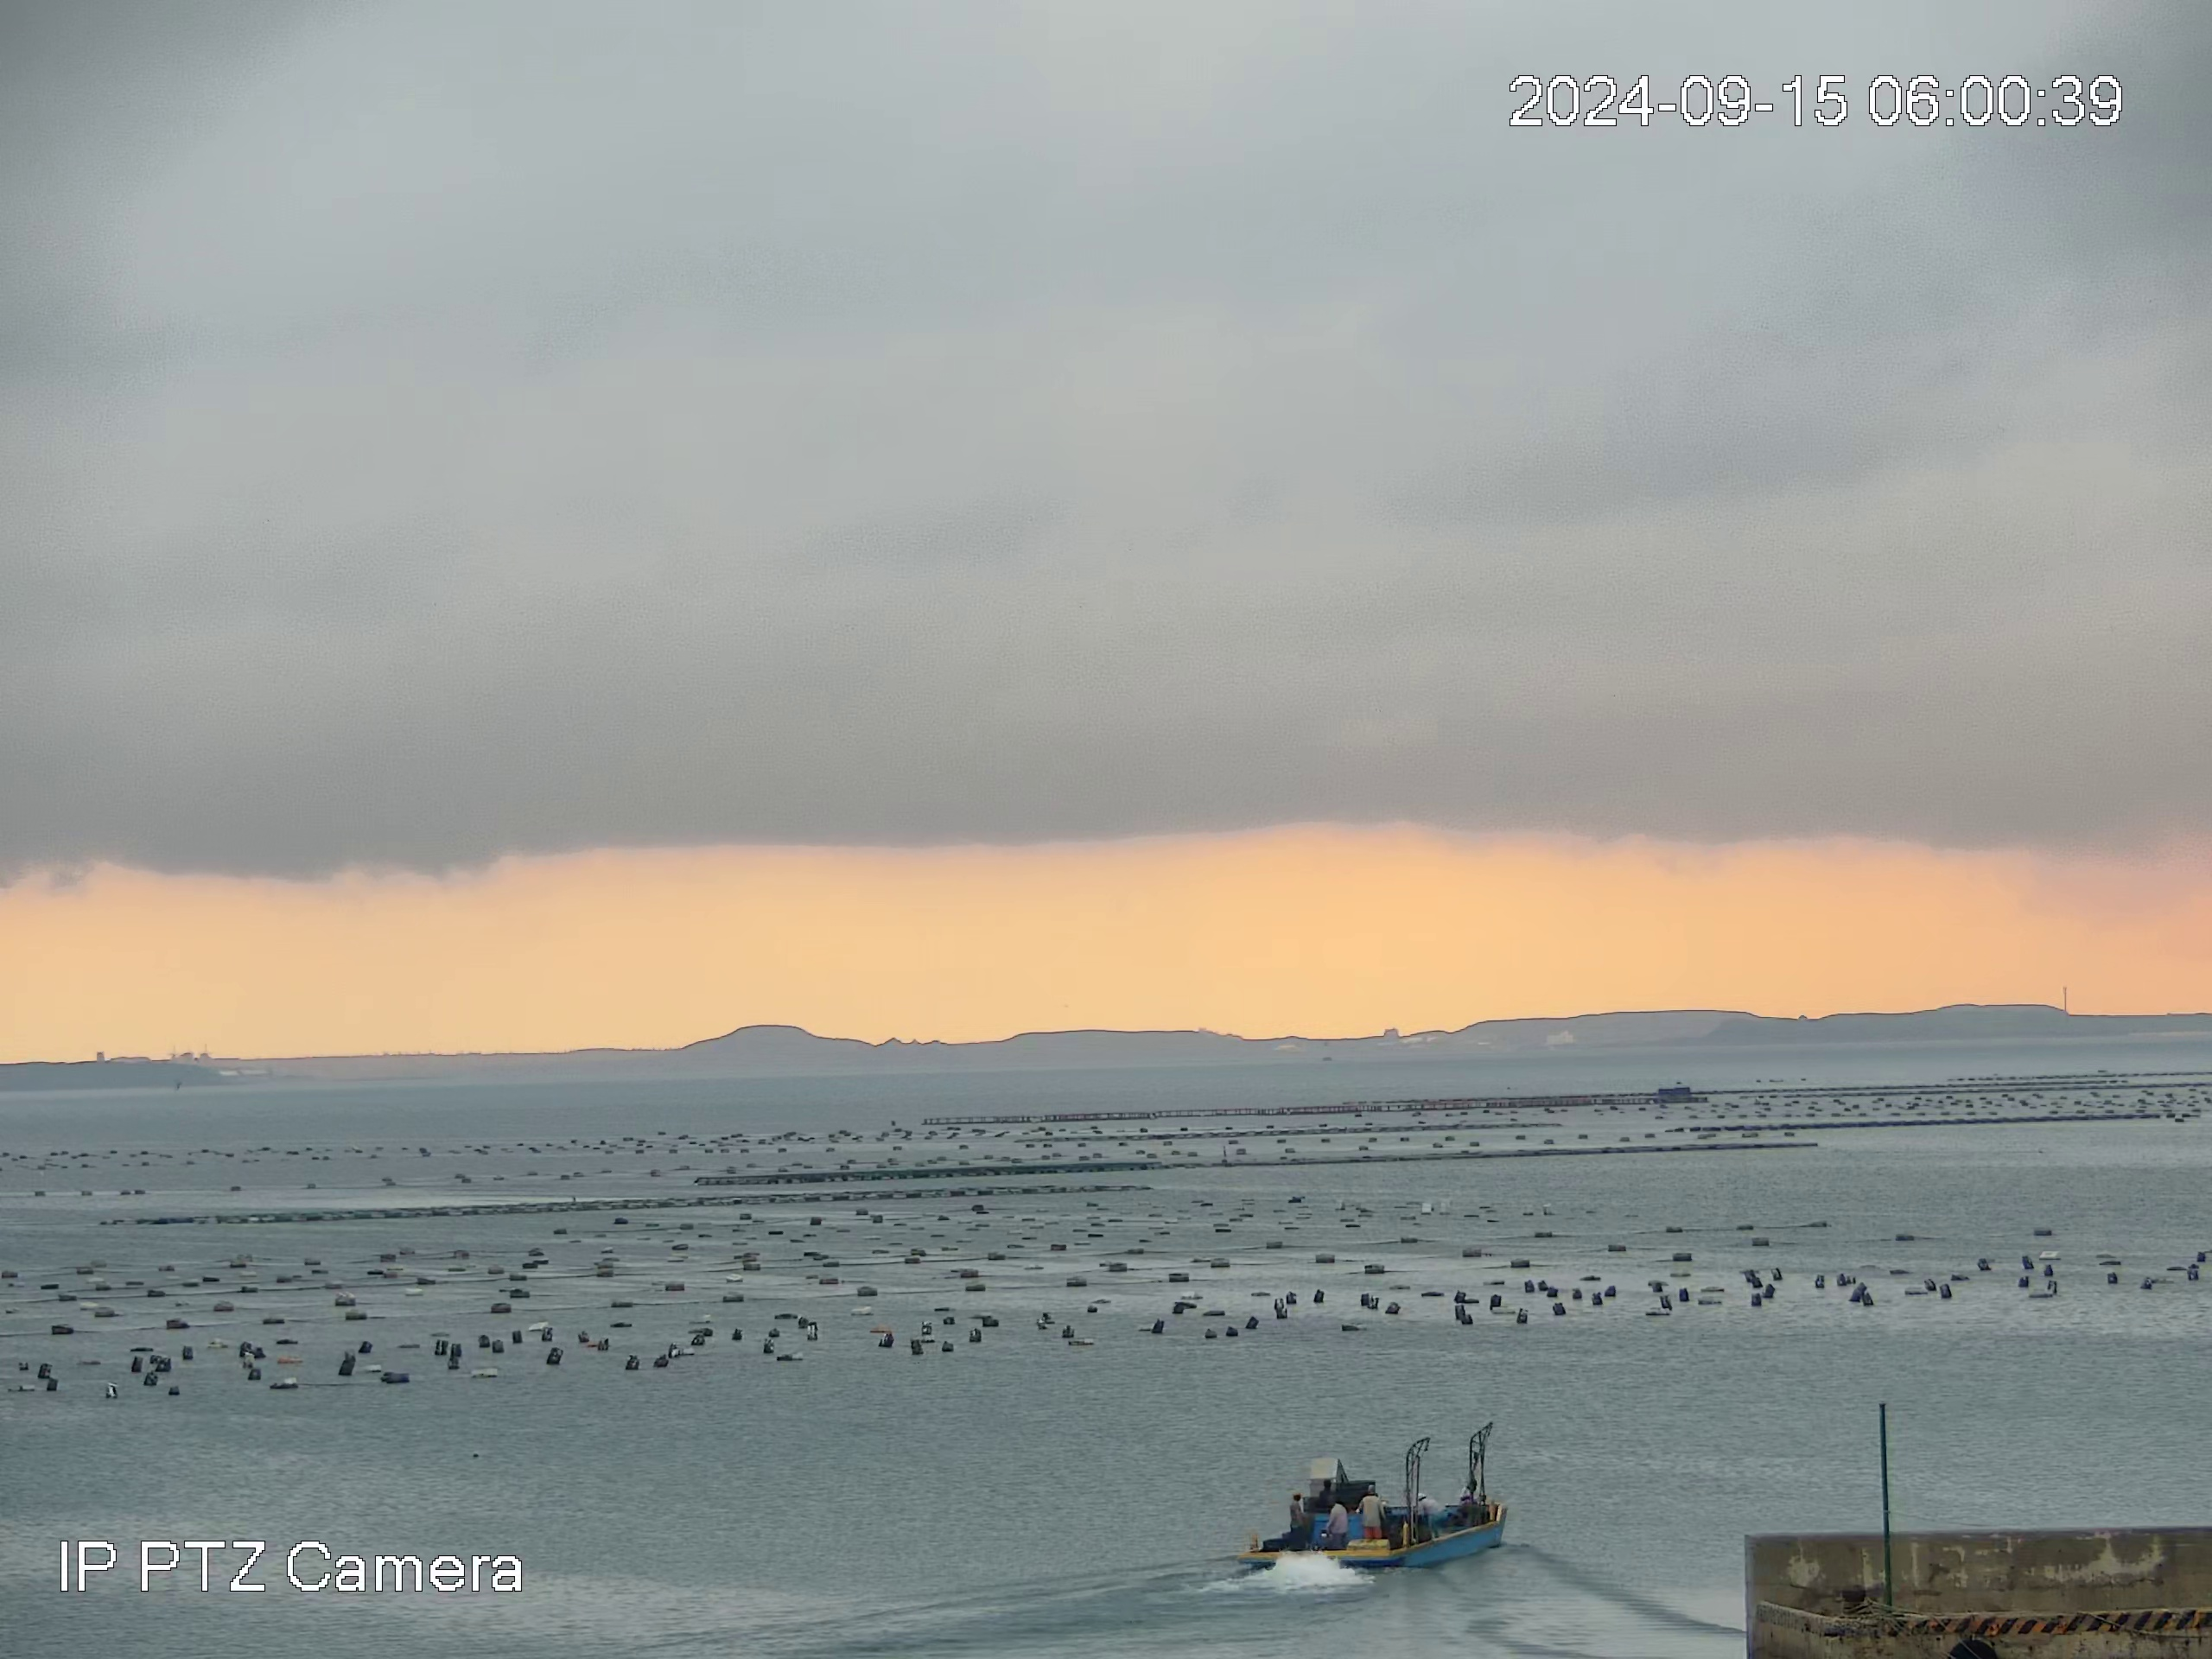boat: (1242, 1413, 1514, 1572)
